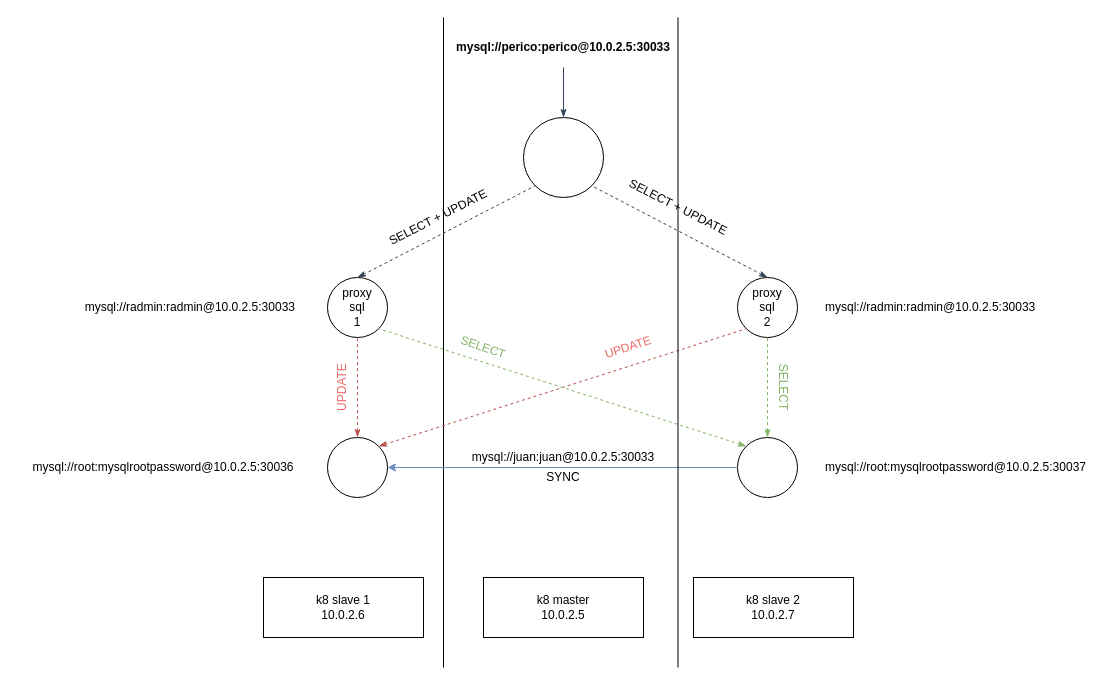
Some shapes in this 1120 by 686 pixel diagram are drawn without their labels. Each missing label, with the box of its shape:
k8s master: (522, 116, 604, 198)
mysql master: (326, 436, 388, 498)
mysql slave: (736, 436, 798, 498)
